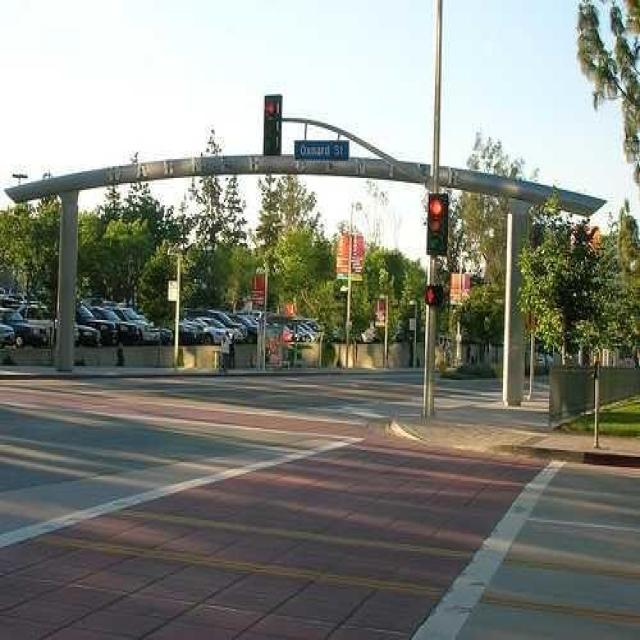Traffic Light -Red-: (426, 193, 448, 257), (262, 92, 283, 154)
